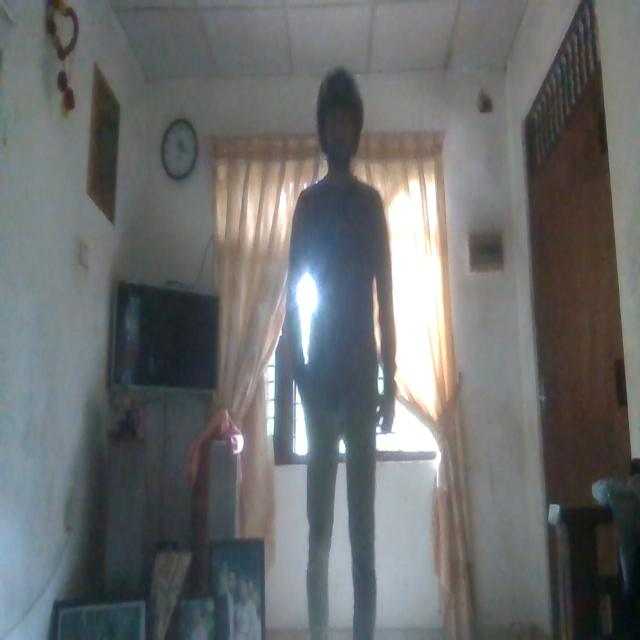Helmet_Wearer: (316, 74, 365, 162)
Person: (284, 67, 399, 640)
